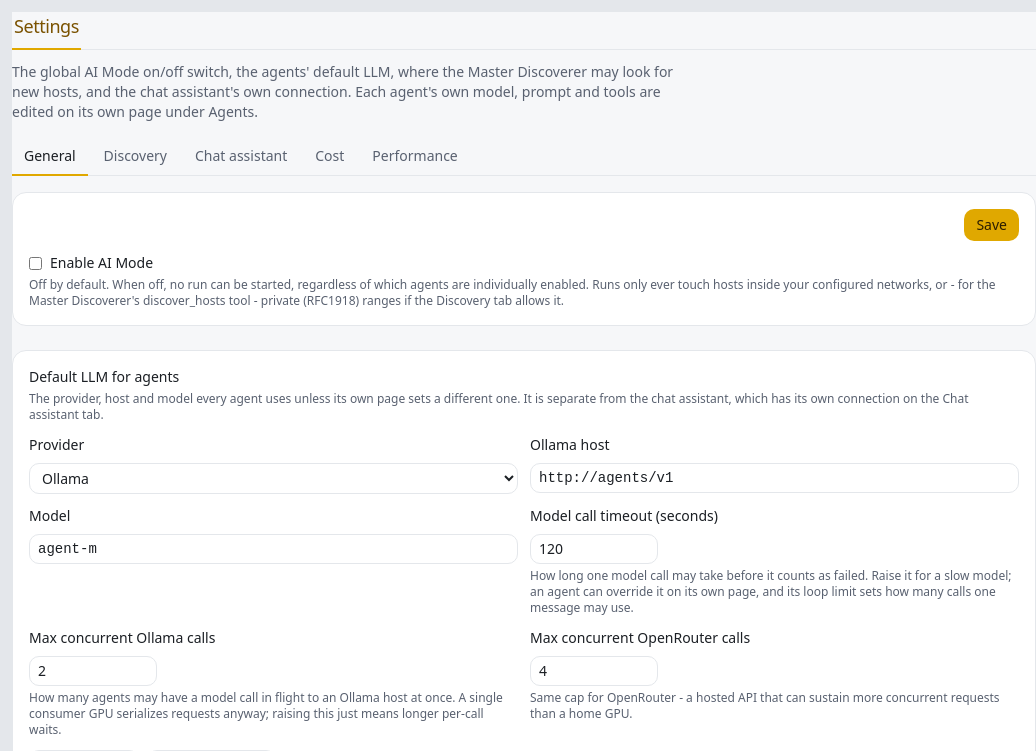
it: AiConfigPage › saves the Enable AI Mode switch from the General tab
This screenshot has width=1036, height=751.
Step 1. Click the checkbox labelled "Enable AI Mode" → (36,263), box left=29, top=256, right=42, bottom=270
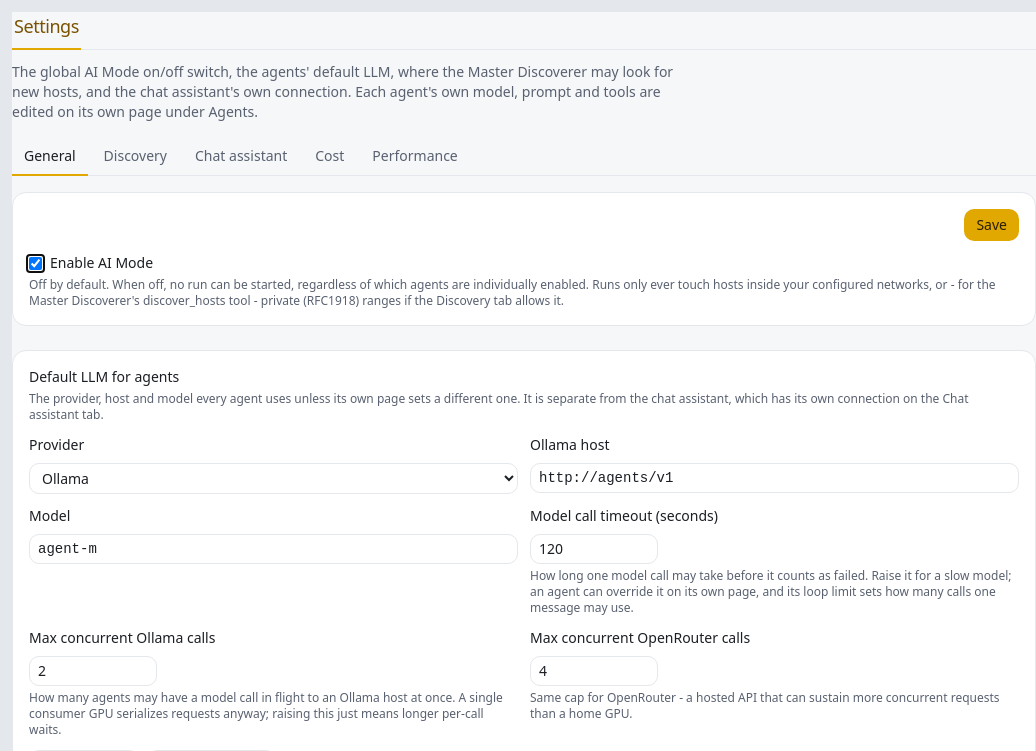
Step 2. Click the button "Save" → (992,225), box left=964, top=209, right=1019, bottom=241
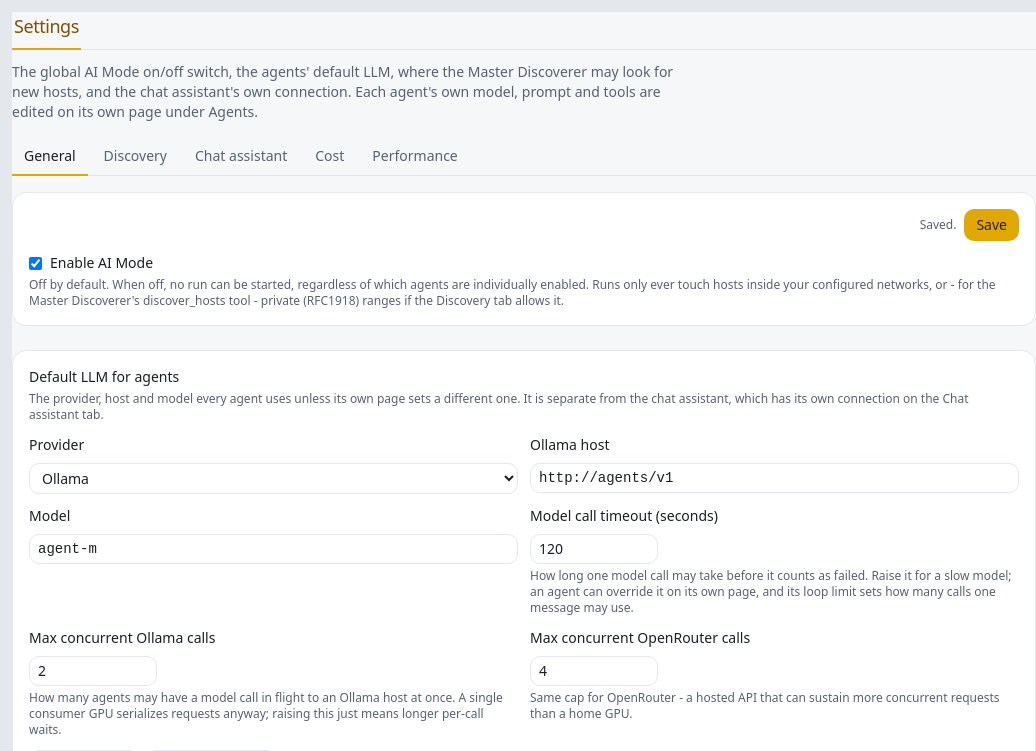
Now the text "Saved." is shown, box left=920, top=217, right=956, bottom=233
